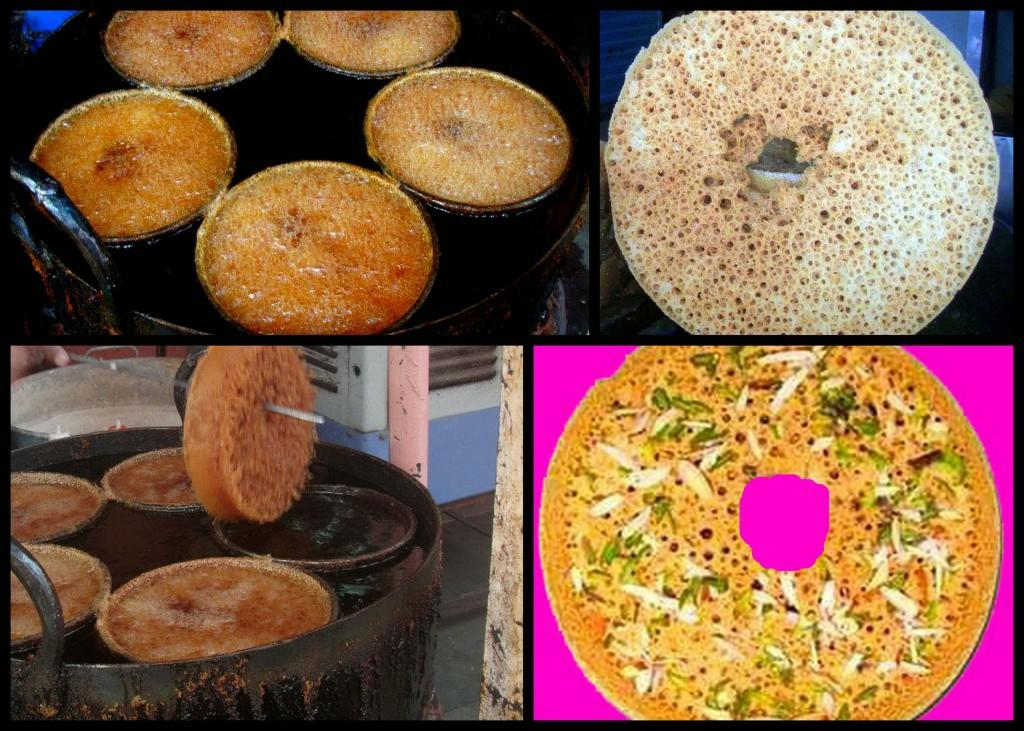Ghevar: (541, 345, 1001, 719), (605, 2, 1000, 337), (30, 88, 236, 242), (363, 65, 569, 215), (99, 556, 337, 664), (182, 345, 321, 524), (102, 4, 278, 87), (280, 8, 460, 74), (12, 542, 110, 644), (6, 464, 106, 543), (102, 444, 203, 512)
